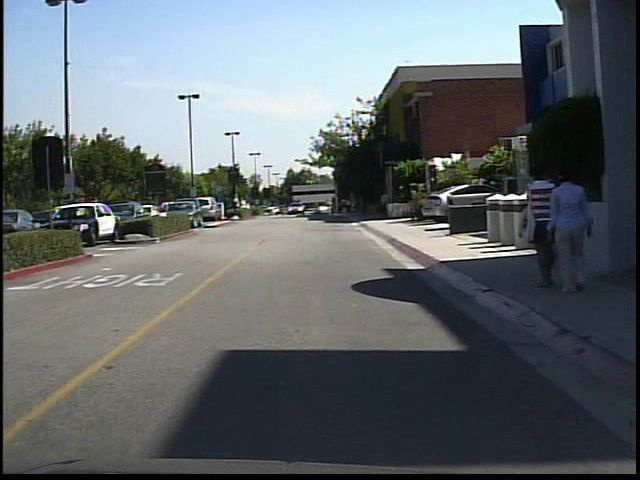person: (545, 164, 598, 293), (522, 161, 557, 292), (236, 192, 253, 220), (324, 196, 338, 221)
